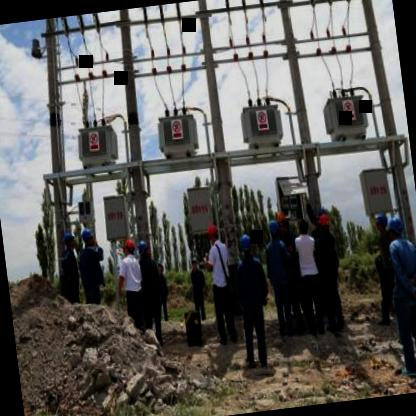helmet: (384, 214, 406, 244), (238, 228, 257, 260), (77, 222, 97, 252), (59, 227, 78, 254), (372, 206, 389, 234), (132, 238, 151, 262), (206, 219, 222, 244), (119, 235, 137, 257), (315, 210, 332, 233), (266, 217, 281, 239)
